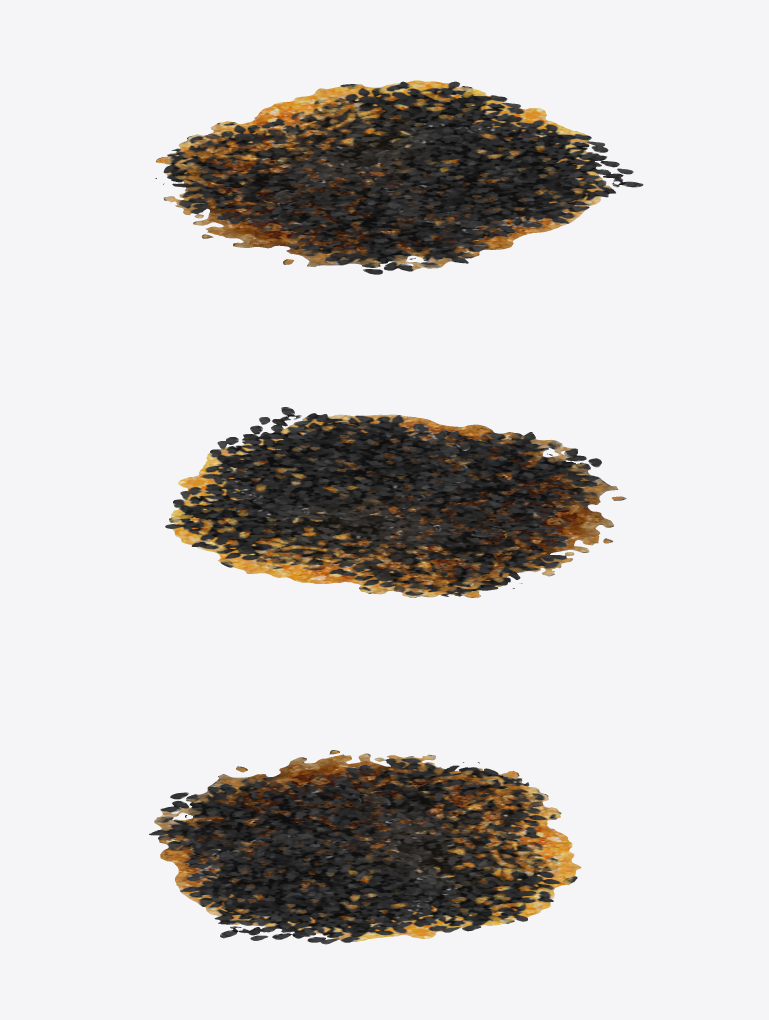
The model's file is hit1.fbx.
The picture shows the model from 3 angles, top to bottom: view 1: azimuth 30°, elevation 25°; view 2: azimuth 150°, elevation 25°; view 3: azimuth 270°, elevation 25°; orthographic projection.
Parts seen in each view (by area): view 1: pDisc3; view 2: pDisc3; view 3: pDisc3.
Boxes of the visible parts, left/top/right/bottom form: pDisc3: left=155, top=80, right=643, bottom=274; pDisc3: left=165, top=407, right=626, bottom=597; pDisc3: left=149, top=750, right=581, bottom=944.
Size of the model in its own units: 16.86 by 0 by 16.93.
Materials: 1 (1 with a texture image).
